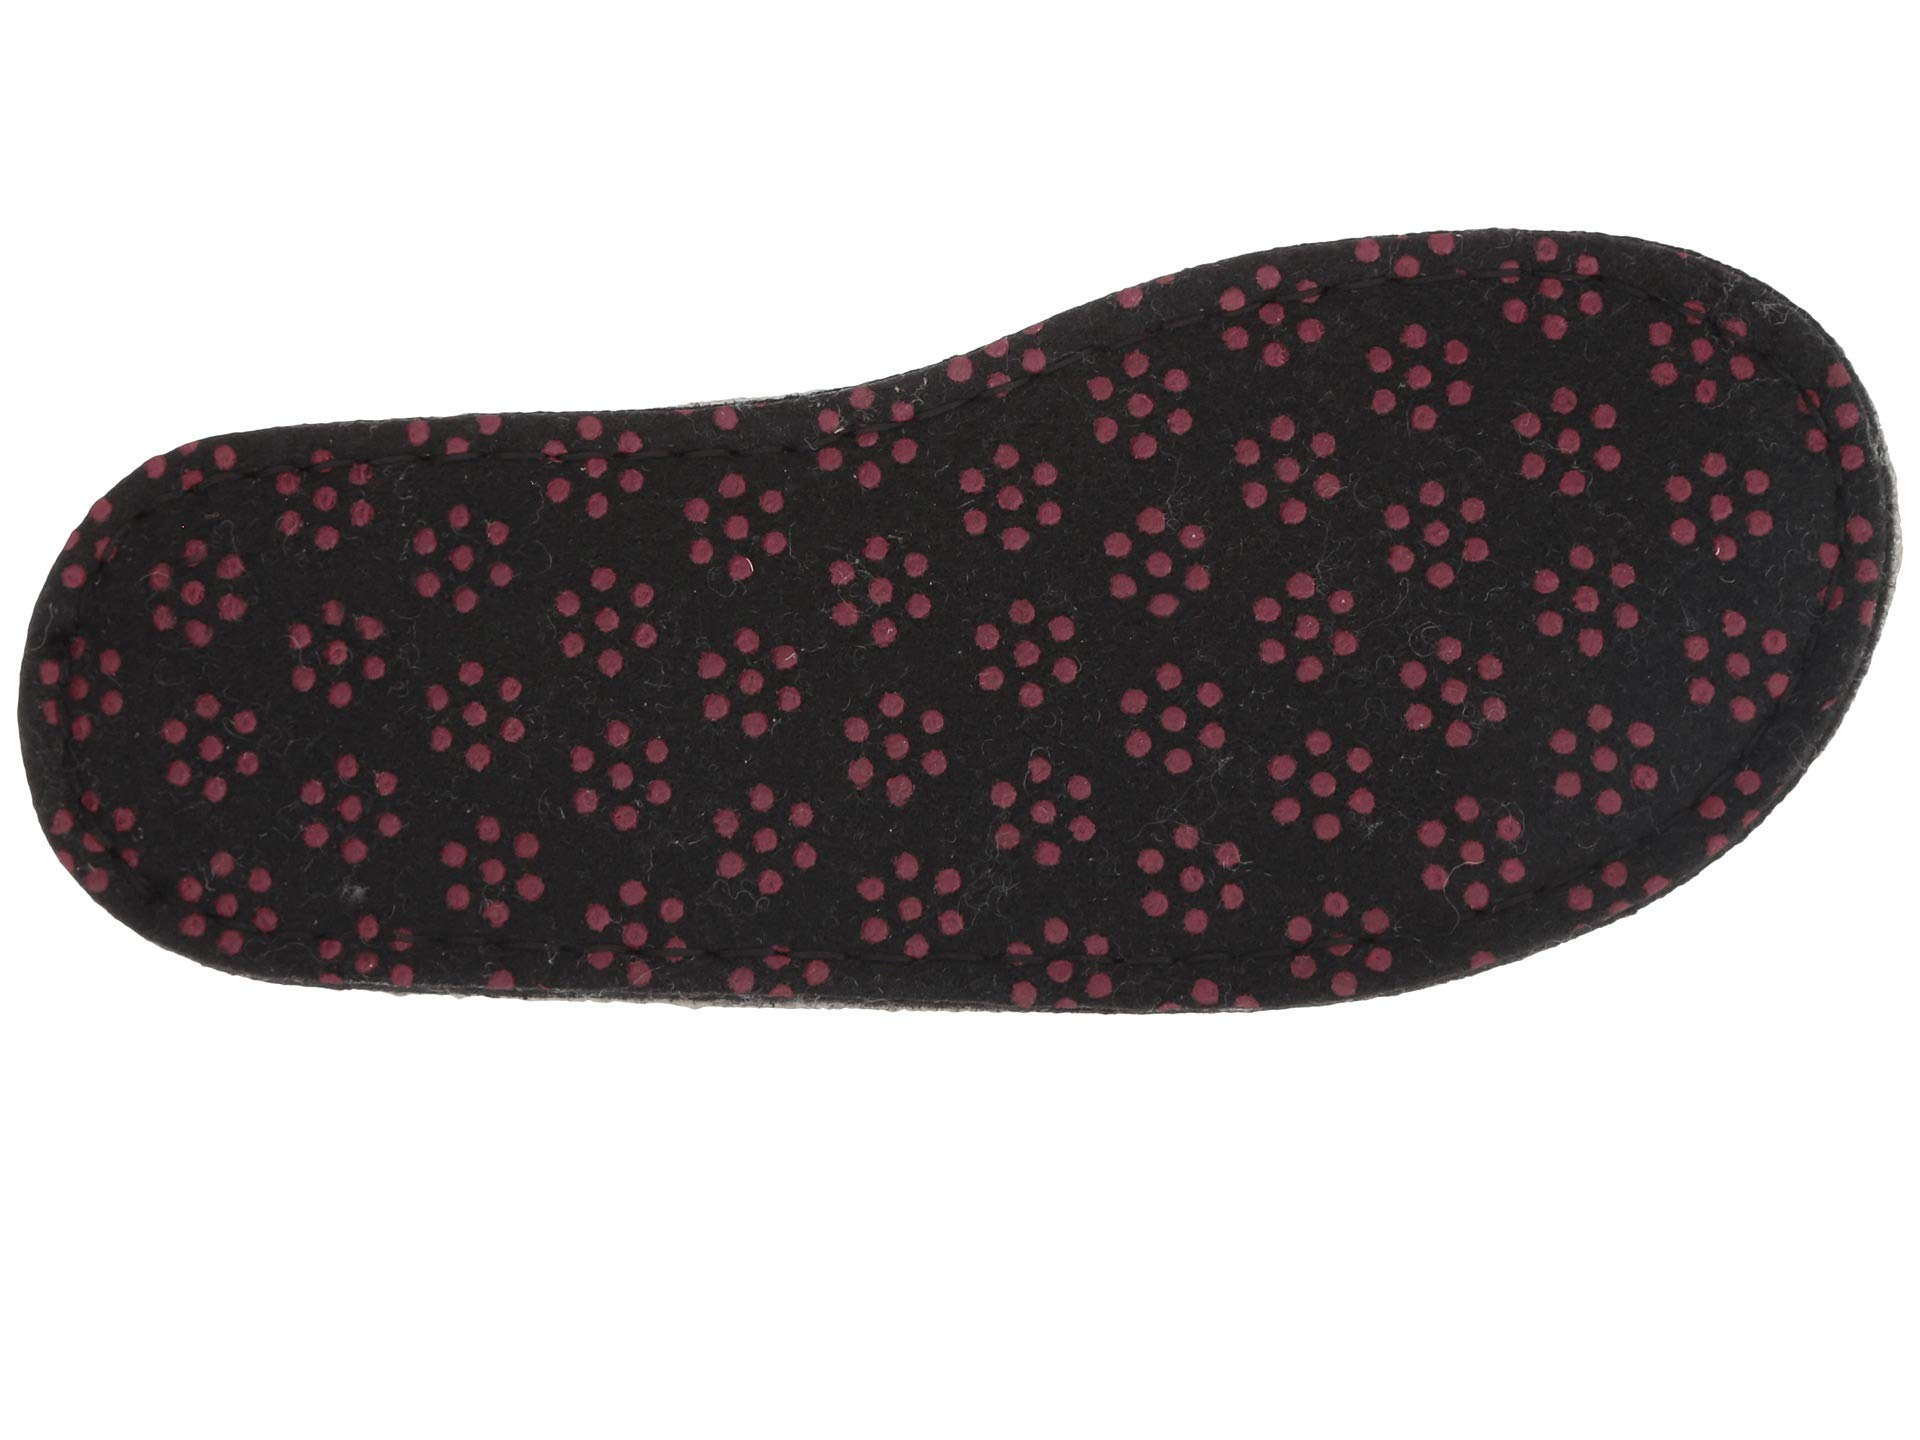circle: (1028, 313, 1657, 888), (381, 476, 889, 988)
